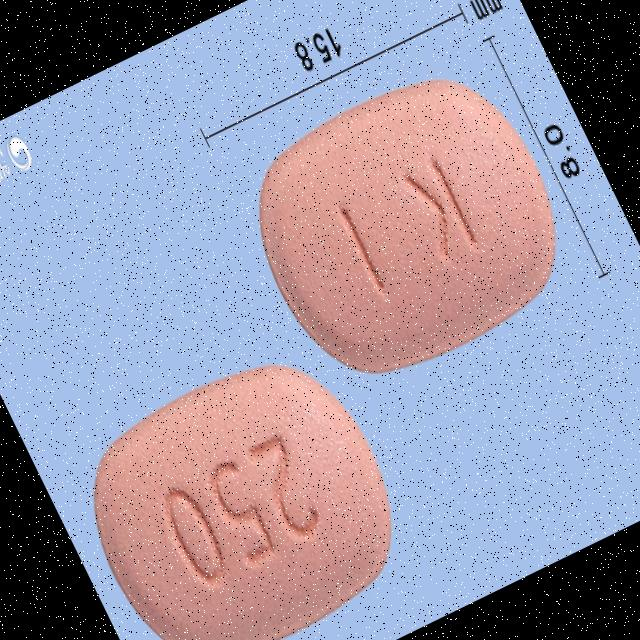Levogun: (221, 46, 594, 406), (56, 333, 430, 640)
